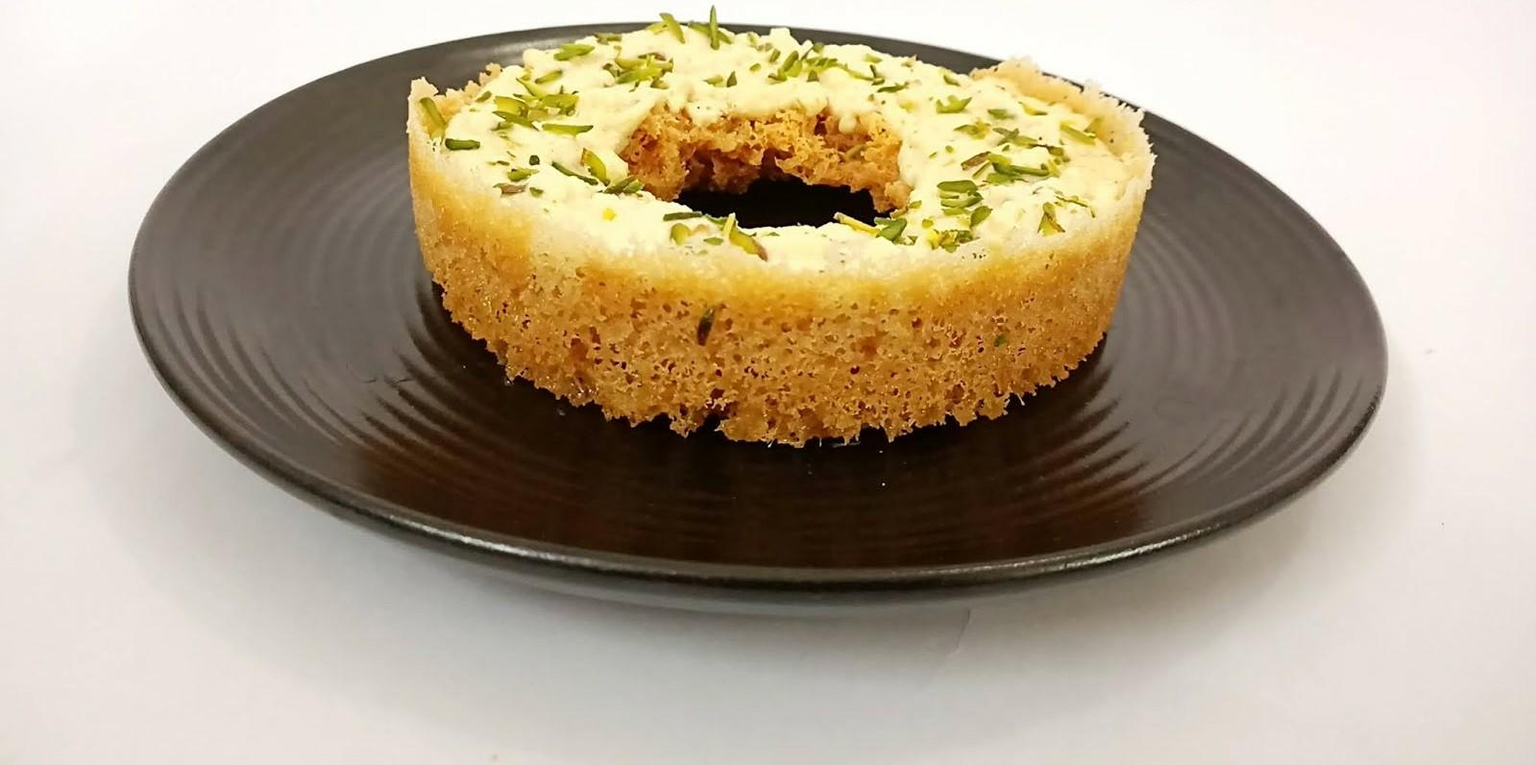Ghevar: (407, 6, 1157, 452)
